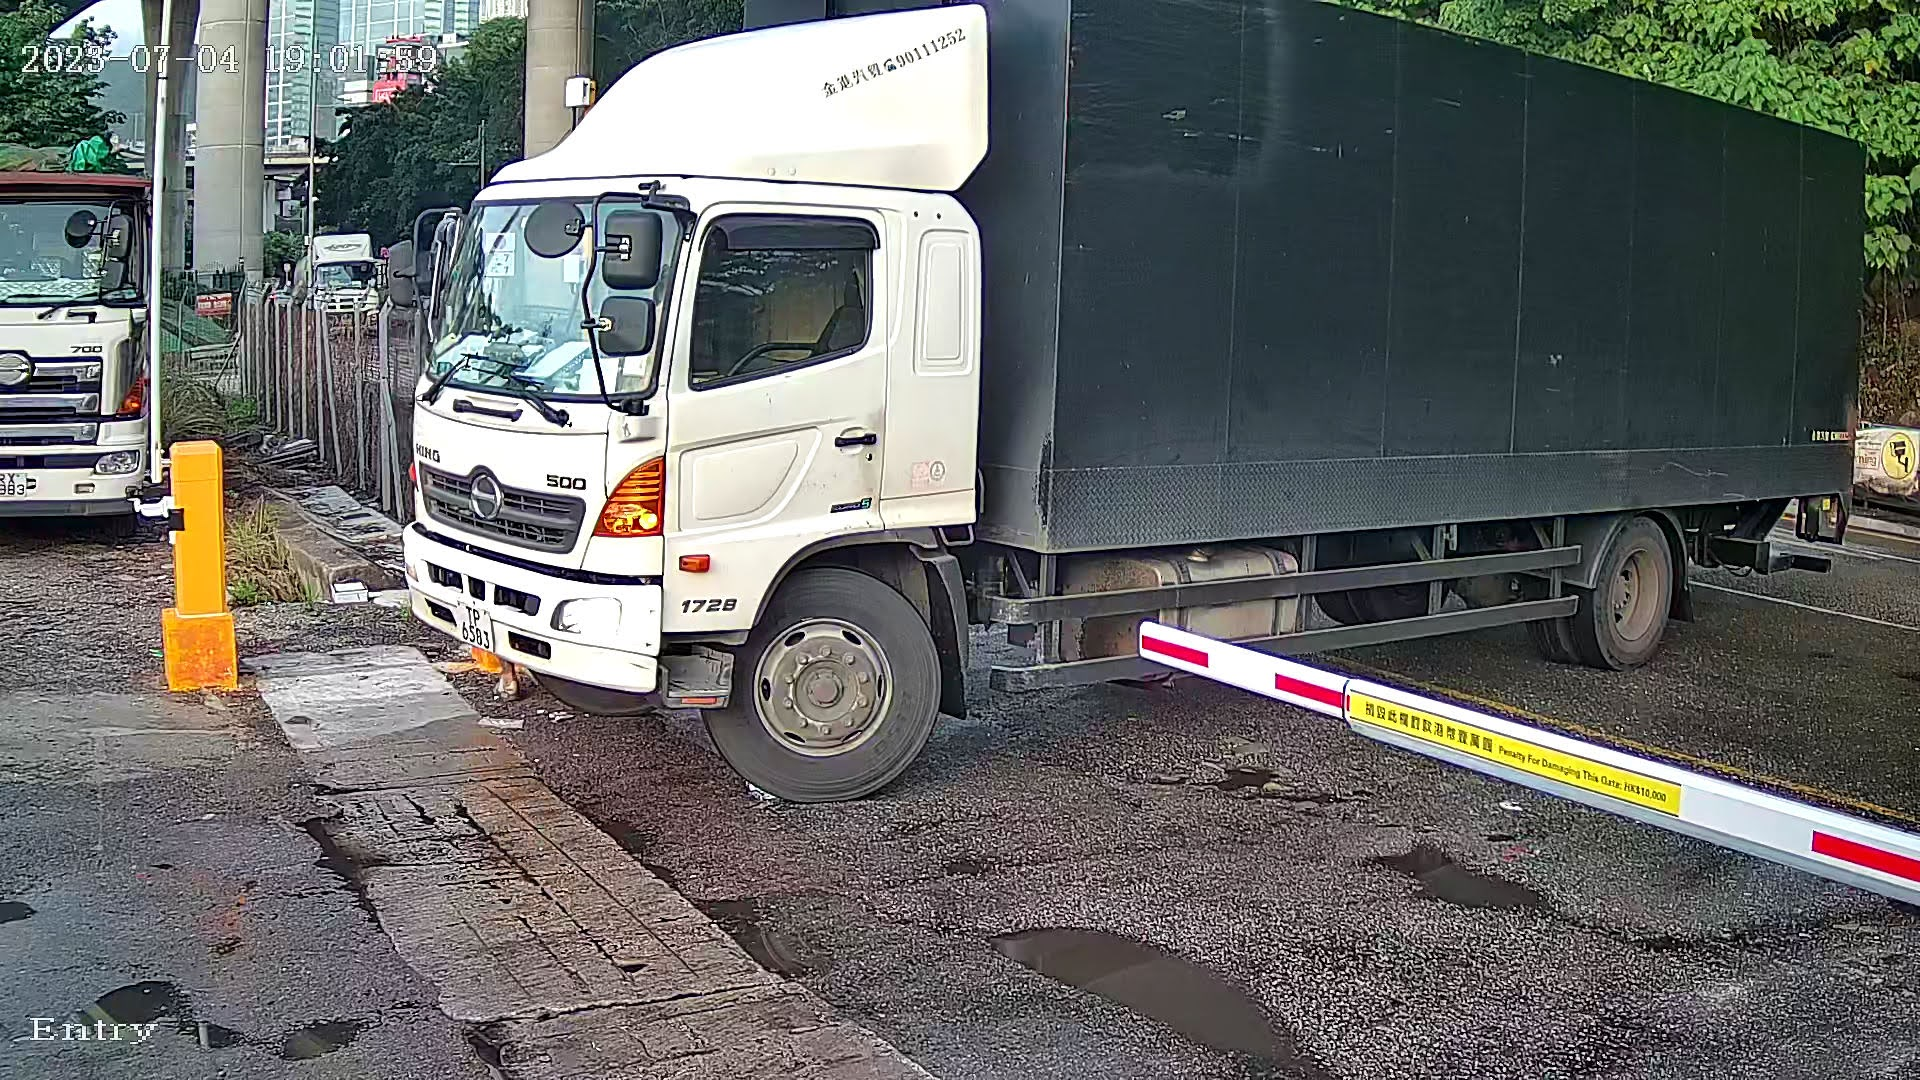truck: (388, 4, 1896, 804)
